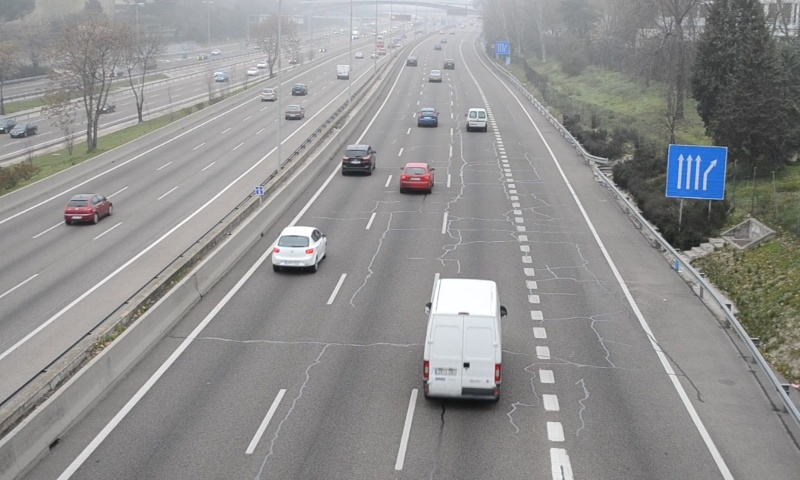car: (272, 226, 326, 268), (341, 144, 375, 176), (399, 161, 433, 192), (416, 107, 438, 127)
van: (423, 278, 503, 402), (466, 108, 488, 132)
